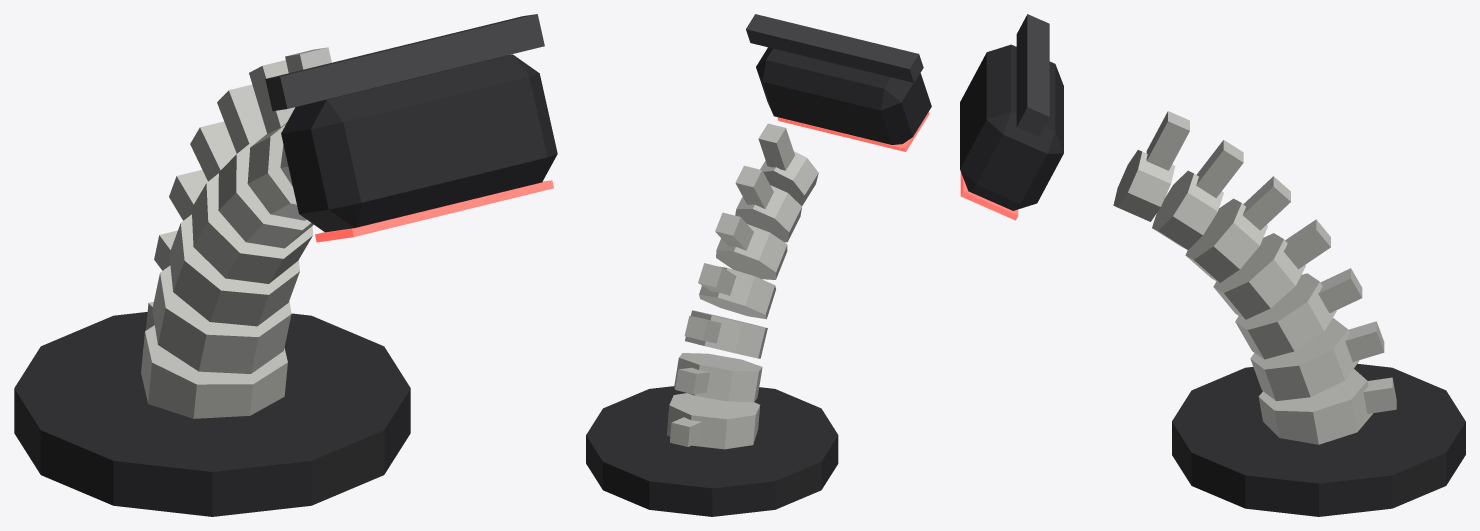
Rendered from xr-posture-checker.glb.
3 renders of one model, left to right at view 1: azimuth 30°, elevation 25°; view 2: azimuth 150°, elevation 25°; view 3: azimuth 270°, elevation 25°, orthographic. The views are drawn at different scales.
Visible parts, largest first — view 1: posture_base, posture_headset, posture_vertebra_1, posture_vertebra_0, posture_vertebra_2, posture_vertebra_3, posture_vertebra_4, posture_vertebra_5, posture_vertebra_6; view 2: posture_base, posture_headset, posture_vertebra_0, posture_vertebra_1, posture_vertebra_4, posture_vertebra_5, posture_vertebra_3, posture_vertebra_6, posture_vertebra_2; view 3: posture_base, posture_headset, posture_vertebra_1, posture_vertebra_0, posture_vertebra_2, posture_vertebra_3, posture_vertebra_4, posture_vertebra_5, posture_vertebra_6.
Boxes of the visible parts, box(x1,y1,x2,y2) form: posture_base: box(14, 312, 410, 516); posture_headset: box(265, 14, 557, 242); posture_vertebra_1: box(152, 230, 291, 373); posture_vertebra_0: box(141, 301, 287, 418); posture_vertebra_2: box(169, 170, 299, 326); posture_vertebra_3: box(190, 121, 312, 283); posture_vertebra_4: box(217, 84, 313, 248); posture_vertebra_5: box(247, 60, 306, 220); posture_vertebra_6: box(280, 47, 331, 186); posture_base: box(586, 386, 838, 516); posture_headset: box(746, 14, 931, 151); posture_vertebra_0: box(667, 393, 760, 449); posture_vertebra_1: box(674, 353, 762, 402); posture_vertebra_4: box(715, 212, 787, 279); posture_vertebra_5: box(735, 165, 801, 242); posture_vertebra_3: box(698, 263, 775, 319); posture_vertebra_6: box(758, 123, 818, 205); posture_vertebra_2: box(684, 310, 767, 358); posture_base: box(1172, 363, 1465, 516); posture_headset: box(960, 14, 1063, 220); posture_vertebra_1: box(1250, 318, 1384, 401); posture_vertebra_0: box(1258, 369, 1396, 444); posture_vertebra_2: box(1235, 268, 1362, 359); posture_vertebra_3: box(1213, 219, 1330, 319); posture_vertebra_4: box(1185, 176, 1290, 282); posture_vertebra_5: box(1152, 140, 1243, 249); posture_vertebra_6: box(1113, 111, 1189, 221).
Bounding box in the file's own units: 0.24 × 0.355 × 0.4128.
